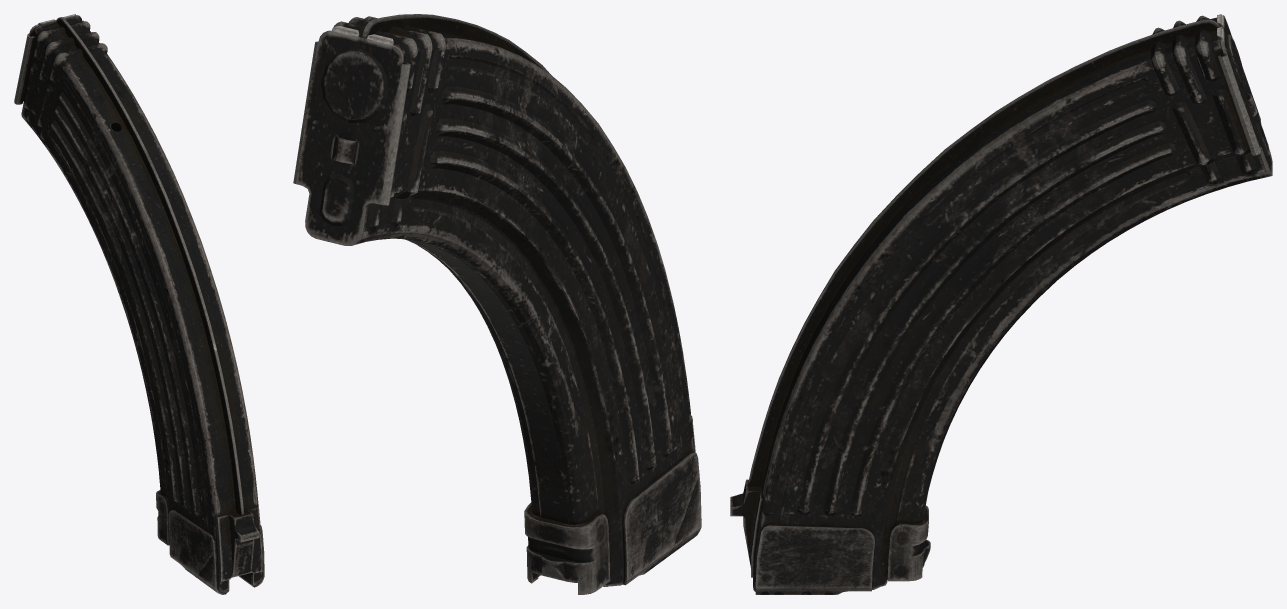
3 views of the same model, side by side, from view 1: azimuth 30°, elevation 25°; view 2: azimuth 150°, elevation 25°; view 3: azimuth 270°, elevation 25° (orthographic). The views are drawn at different scales.
Visible parts, largest first — view 1: TW_59e5f5a486f7746c530b3ce2_PZ_Import; view 2: TW_59e5f5a486f7746c530b3ce2_PZ_Import; view 3: TW_59e5f5a486f7746c530b3ce2_PZ_Import.
Part boxes in pixels (x1=…): TW_59e5f5a486f7746c530b3ce2_PZ_Import: x1=14, y1=14, x2=264, y2=594; TW_59e5f5a486f7746c530b3ce2_PZ_Import: x1=293, y1=14, x2=701, y2=594; TW_59e5f5a486f7746c530b3ce2_PZ_Import: x1=730, y1=14, x2=1272, y2=594.
Bounding box in the file's own units: 0.0177 × 0.1126 × 0.1293.
Materials: 1 (1 with a texture image).
